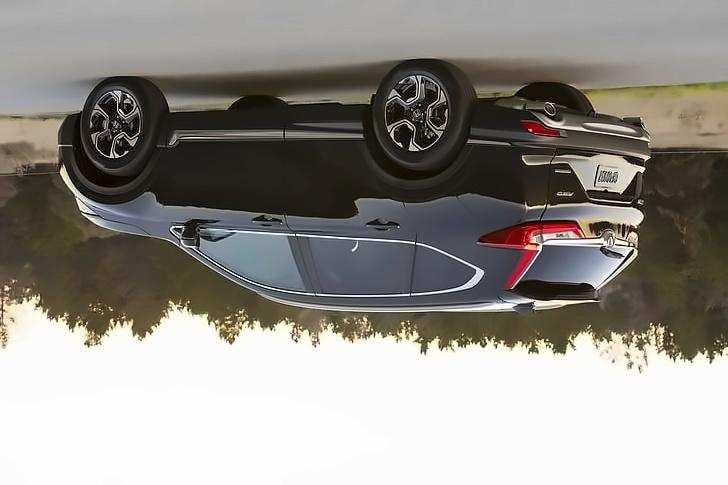Car boot: (529, 145, 647, 254)
Car hood: (78, 210, 151, 240)
Driver-s door - -F-R-: (158, 101, 318, 313)
Fender - -F-R-: (53, 139, 184, 252)
Fender - -R-R-: (370, 131, 555, 257)
Front bumper: (49, 107, 81, 176)
Passenger-s door - -R-R-: (277, 108, 425, 309)
Rear bumper: (472, 93, 656, 169)
Rear light - -R-: (477, 221, 585, 291)
Side bumper - -R-: (148, 92, 383, 169)
Side mirror - -R-: (170, 222, 204, 253)
